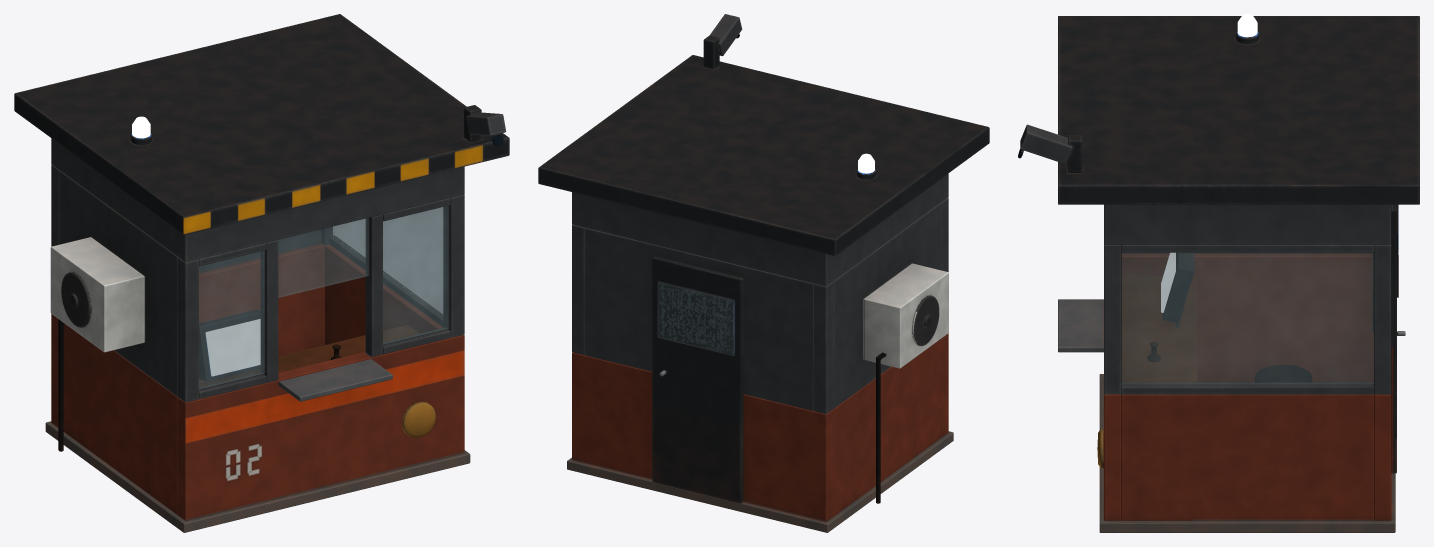
The model's file is checkpoint_booth.glb.
The picture shows the model from 3 angles, left to right: view 1: azimuth 30°, elevation 25°; view 2: azimuth 150°, elevation 25°; view 3: azimuth 270°, elevation 25°; orthographic projection. The views are drawn at different scales.
Visible parts, largest first — view 1: checkpoint_booth; view 2: checkpoint_booth; view 3: checkpoint_booth.
Boxes of the visible parts, <box> form: checkpoint_booth: <box>14,14,509,532</box>; checkpoint_booth: <box>538,14,989,532</box>; checkpoint_booth: <box>1018,14,1419,532</box>.
Size of the model in its own units: 2.99 by 3.07 by 2.8.
2 materials, 2 textured.
